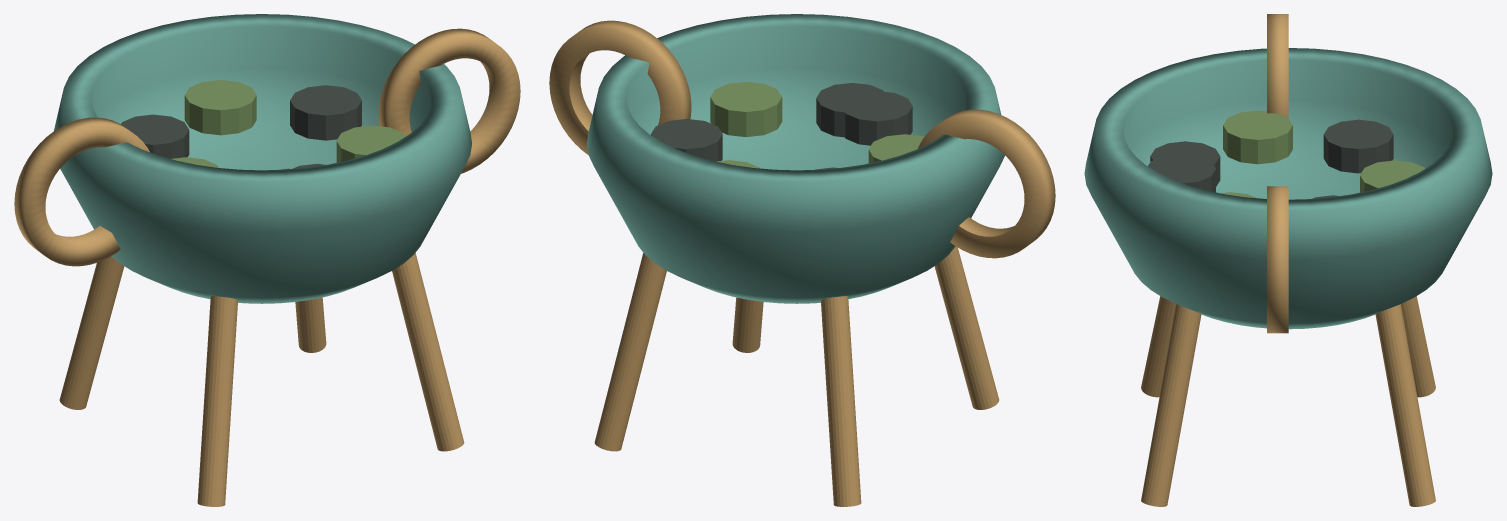
Rendered from fantasy-bathhouse-and-thermal-sanctuary-fantasy-bathho-f9cb7cbd__29470.glb.
3 views of the same model, side by side, from view 1: azimuth 30°, elevation 25°; view 2: azimuth 150°, elevation 25°; view 3: azimuth 270°, elevation 25° (orthographic). The views are drawn at different scales.
Parts seen in each view (by area): view 1: fantasy-bathhouse-and-thermal-sanctuary-herbal-steam-brazier (×4); view 2: fantasy-bathhouse-and-thermal-sanctuary-herbal-steam-brazier (×4); view 3: fantasy-bathhouse-and-thermal-sanctuary-herbal-steam-brazier (×4).
Part boxes in pixels (left/top/right/bottom): fantasy-bathhouse-and-thermal-sanctuary-herbal-steam-brazier (×4): left=14, top=14, right=520, bottom=506; fantasy-bathhouse-and-thermal-sanctuary-herbal-steam-brazier (×4): left=549, top=14, right=1055, bottom=506; fantasy-bathhouse-and-thermal-sanctuary-herbal-steam-brazier (×4): left=1084, top=14, right=1492, bottom=506.
Bounding box in the file's own units: 1.03 × 0.7029 × 0.76.
